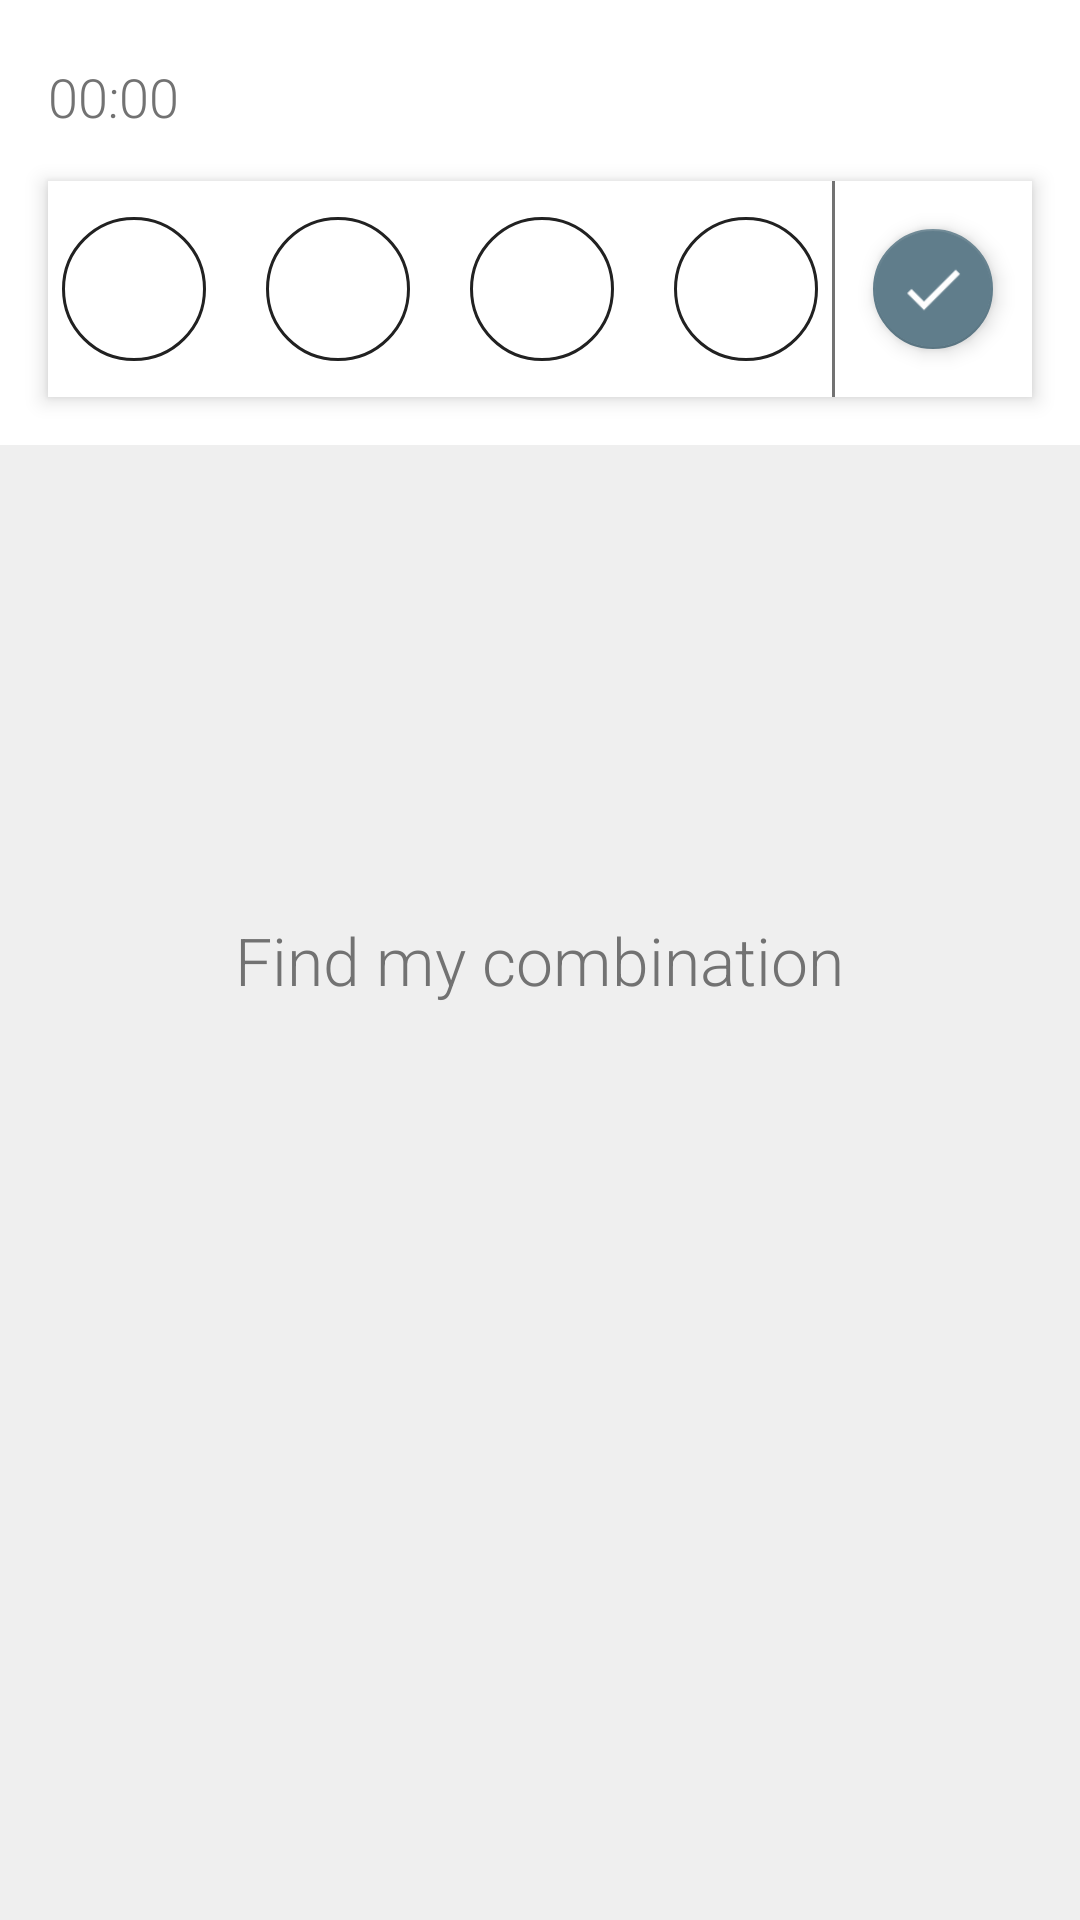

Where icons sit on this 1080 x 1920 app screen, as rect(x1, y1, x2, y2):
circle: rect(62, 217, 206, 361), rect(266, 217, 410, 361), rect(470, 217, 614, 361), rect(674, 217, 818, 361)
done: rect(873, 229, 993, 349)
